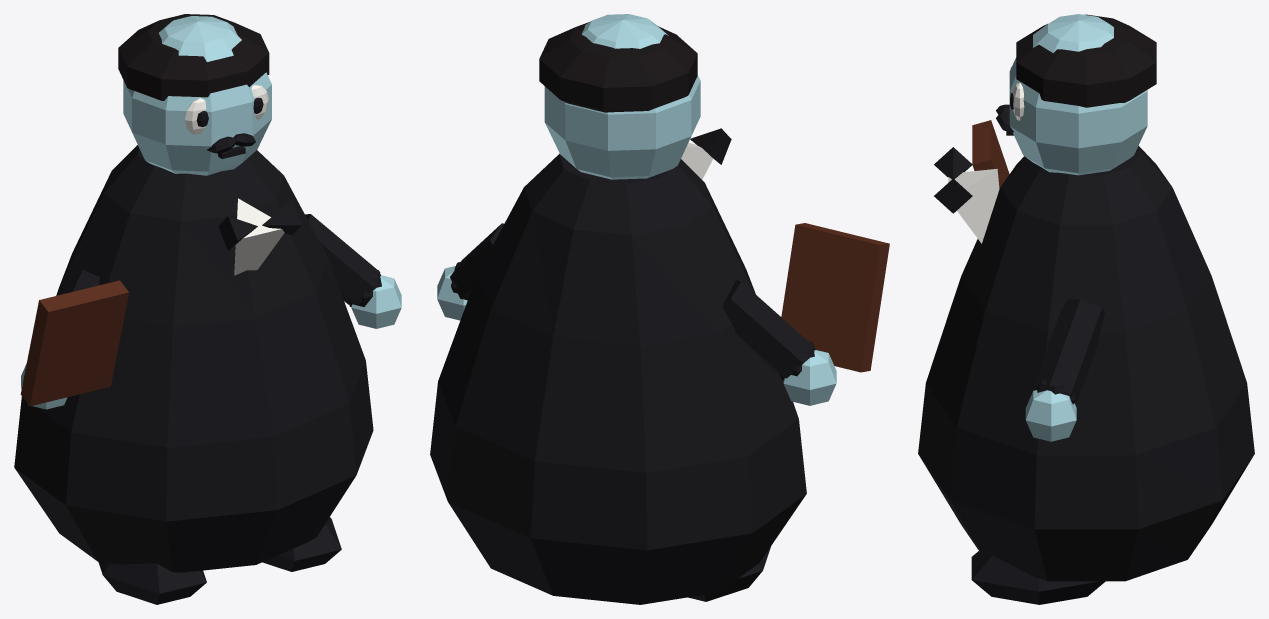
File: npc_maitre.glb
3 renders of one model, left to right at view 1: azimuth 30°, elevation 25°; view 2: azimuth 150°, elevation 25°; view 3: azimuth 270°, elevation 25°, orthographic. The views are drawn at different scales.
Visible parts, largest first — view 1: body_tux_black, head_skin_celeste, props_book_leather, head_hair_black, legs_black, arms_tux_black, body_white, arms_skin_celeste, body_black, face_black, face_white; view 2: body_tux_black, head_skin_celeste, props_book_leather, head_hair_black, arms_tux_black, arms_skin_celeste, body_black, legs_black, body_white; view 3: body_tux_black, head_skin_celeste, head_hair_black, arms_tux_black, legs_black, arms_skin_celeste, body_white, props_book_leather, body_black.
Part boxes in pixels (left/top/right/bottom): body_tux_black: left=14, top=145, right=373, bottom=572; head_skin_celeste: left=123, top=16, right=271, bottom=175; props_book_leather: left=20, top=280, right=128, bottom=406; head_hair_black: left=118, top=14, right=269, bottom=100; legs_black: left=98, top=517, right=341, bottom=604; arms_tux_black: left=60, top=214, right=381, bottom=306; body_white: left=234, top=198, right=284, bottom=275; arms_skin_celeste: left=21, top=275, right=401, bottom=409; body_black: left=218, top=201, right=301, bottom=250; face_black: left=196, top=97, right=263, bottom=158; face_white: left=185, top=85, right=268, bottom=134; body_tux_black: left=430, top=153, right=806, bottom=604; head_skin_celeste: left=544, top=14, right=700, bottom=179; props_book_leather: left=781, top=223, right=889, bottom=372; head_hair_black: left=539, top=22, right=697, bottom=112; arms_tux_black: left=450, top=223, right=815, bottom=380; arms_skin_celeste: left=437, top=266, right=836, bottom=405; body_black: left=690, top=128, right=731, bottom=164; legs_black: left=688, top=546, right=770, bottom=601; body_white: left=681, top=142, right=713, bottom=179; body_tux_black: left=918, top=145, right=1254, bottom=581; head_skin_celeste: left=1009, top=14, right=1147, bottom=175; head_hair_black: left=1016, top=14, right=1156, bottom=107; arms_tux_black: left=1034, top=299, right=1104, bottom=404; legs_black: left=971, top=551, right=1105, bottom=604; arms_skin_celeste: left=1025, top=390, right=1076, bottom=441; body_white: left=948, top=168, right=999, bottom=243; props_book_leather: left=972, top=120, right=1009, bottom=188; body_black: left=934, top=147, right=972, bottom=213.
Size of the model in its own units: 1.17 by 1.53 by 0.86.
